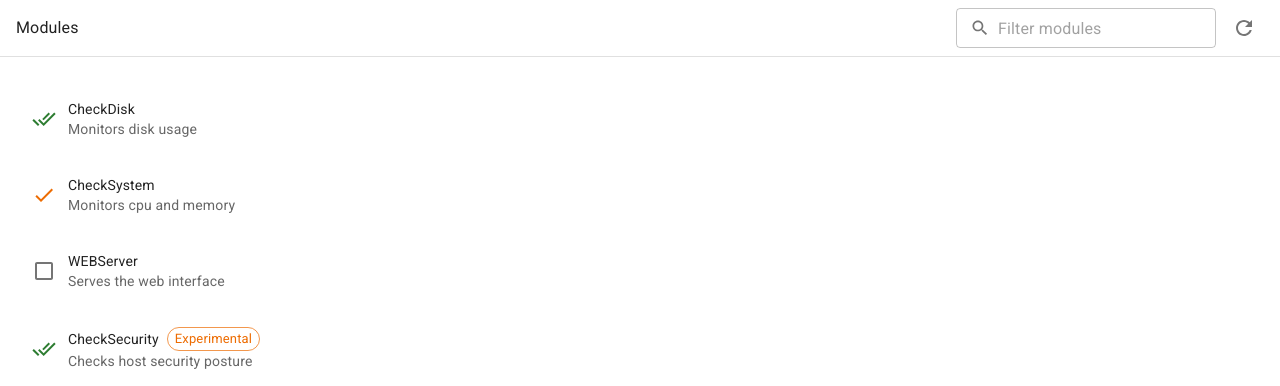
Test case: Modules page › shows an empty state when the filter matches nothing
This screenshot has width=1280, height=386.
Expected: the text "CheckDisk" is shown, x1=68 y1=99 x2=135 y2=119
Type "nonexistent" into the field with placeholder "Filter modules" at (1107, 28), box x1=998 y1=8 x2=1216 y2=48
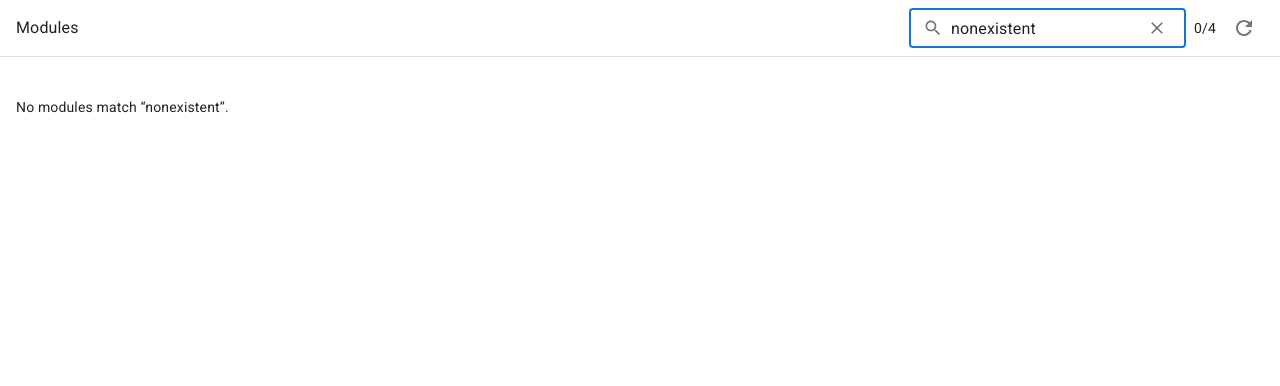
Now the text "No modules match “nonexistent”." is shown, box x1=16 y1=99 x2=229 y2=115
Now the text "0/4" is shown, box x1=1194 y1=18 x2=1216 y2=38
